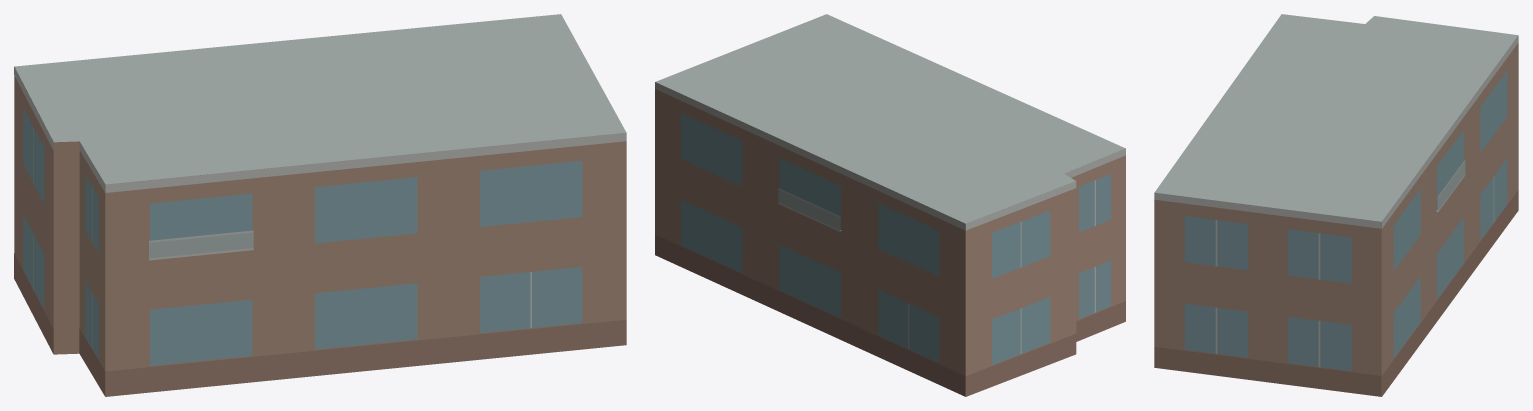
File: survey-upis-32956369.glb
3 views of the same model, side by side, from view 1: azimuth 30°, elevation 25°; view 2: azimuth 150°, elevation 25°; view 3: azimuth 270°, elevation 25° (orthographic). The views are drawn at different scales.
Visible parts, largest first — view 1: survey-upis-32956369.tmp; view 2: survey-upis-32956369.tmp; view 3: survey-upis-32956369.tmp.
Boxes of the visible parts, <box> form: survey-upis-32956369.tmp: <box>14,14,626,396</box>; survey-upis-32956369.tmp: <box>655,14,1125,396</box>; survey-upis-32956369.tmp: <box>1154,14,1518,396</box>.
Bounding box in the file's own units: 15.54 × 6.1 × 11.51.
